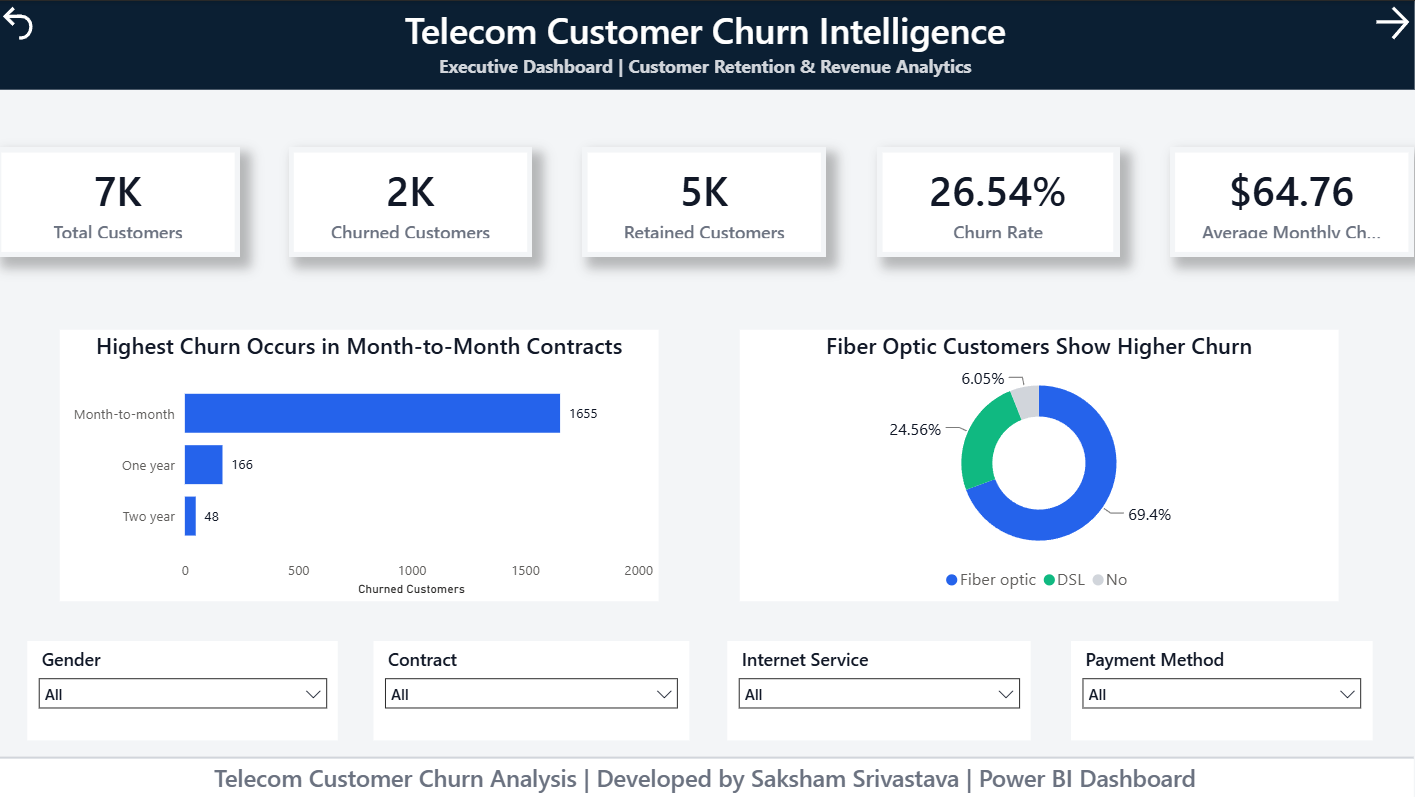

Layout of this report page (visuals, bound fields, positions):
{"tool":"powerbi","page":{"name":" Executive Overview","canvas":[1280,720],"ordinal":0},"visuals":[{"type":"shape","title":"Telecom Customer Churn Intelligence","box":[0,0,1279.5,80],"z":0},{"type":"textbox","box":[0,0,1278.9,79.6],"z":1000},{"type":"cardVisual","fields":{"Data":["Customer_churn.Total Customers"]},"box":[0,131.9,220.2,99.5],"z":2000},{"type":"cardVisual","fields":{"Data":["Customer_churn.Churned Customers"]},"box":[263.7,131.9,220.2,99.5],"z":3000},{"type":"cardVisual","fields":{"Data":["Customer_churn.Retained Customers"]},"box":[528.7,131.9,220.2,99.5],"z":4000},{"type":"cardVisual","fields":{"Data":["Customer_churn.Churn Rate"]},"box":[794.9,131.9,218.9,99.5],"z":5000},{"type":"cardVisual","fields":{"Data":["Customer_churn.Average Monthly Charges"]},"box":[1058.6,131.9,220.2,99.5],"z":6000},{"type":"clusteredBarChart","title":"Highest Churn Occurs in Month-to-Month Contracts","fields":{"Category":["Customer_churn.Contract"],"Y":["Customer_churn.Churned Customers"]},"box":[57.2,296.1,539.9,245.1],"z":7000},{"type":"donutChart","title":"Fiber Optic Customers Show Higher Churn","fields":{"Category":["Customer_churn.InternetService"],"Y":["Customer_churn.Churned Customers"]},"box":[670.5,296.1,539.9,245.1],"z":8000},{"type":"slicer","fields":{"Values":["Customer_churn.gender"]},"box":[27.8,577.5,280.2,89.8],"z":9000},{"type":"slicer","fields":{"Values":["Customer_churn.Contract"]},"box":[340.1,577.5,284.5,89.8],"z":10000},{"type":"slicer","fields":{"Values":["Customer_churn.InternetService"]},"box":[658.8,577.5,273.8,89.8],"z":11000},{"type":"slicer","fields":{"Values":["Customer_churn.PaymentMethod"]},"box":[969,577.5,271.7,89.8],"z":12000},{"type":"actionButton","box":[0,0,57.2,39.8],"z":13000},{"type":"textbox","box":[0,680.9,1278.3,39.7],"z":14000},{"type":"shape","box":[0,676.4,1278.7,11.8],"z":15000},{"type":"actionButton","box":[1169.7,0,108.6,39.7],"z":16000}]}

Visuals, with their boxes in screenshot pixels (x1, y1, x2, y2), scaled from the page's 1280x720 canvas onto the 1415x797 screenshot:
"Telecom Customer Churn Intelligence" shape: pyautogui.locateOnScreen(0, 0, 1414, 89)
textbox: pyautogui.locateOnScreen(0, 0, 1414, 88)
cardVisual - Customer_churn.Total Customers: pyautogui.locateOnScreen(0, 146, 243, 256)
cardVisual - Customer_churn.Churned Customers: pyautogui.locateOnScreen(292, 146, 535, 256)
cardVisual - Customer_churn.Retained Customers: pyautogui.locateOnScreen(584, 146, 828, 256)
cardVisual - Customer_churn.Churn Rate: pyautogui.locateOnScreen(879, 146, 1121, 256)
cardVisual - Customer_churn.Average Monthly Charges: pyautogui.locateOnScreen(1170, 146, 1414, 256)
"Highest Churn Occurs in Month-to-Month Contracts" clusteredBarChart: pyautogui.locateOnScreen(63, 328, 660, 599)
"Fiber Optic Customers Show Higher Churn" donutChart: pyautogui.locateOnScreen(741, 328, 1338, 599)
slicer - Customer_churn.gender: pyautogui.locateOnScreen(31, 639, 340, 739)
slicer - Customer_churn.Contract: pyautogui.locateOnScreen(376, 639, 690, 739)
slicer - Customer_churn.InternetService: pyautogui.locateOnScreen(728, 639, 1031, 739)
slicer - Customer_churn.PaymentMethod: pyautogui.locateOnScreen(1071, 639, 1372, 739)
actionButton: pyautogui.locateOnScreen(0, 0, 63, 44)
textbox: pyautogui.locateOnScreen(0, 754, 1413, 796)
shape: pyautogui.locateOnScreen(0, 749, 1414, 762)
actionButton: pyautogui.locateOnScreen(1293, 0, 1413, 44)
